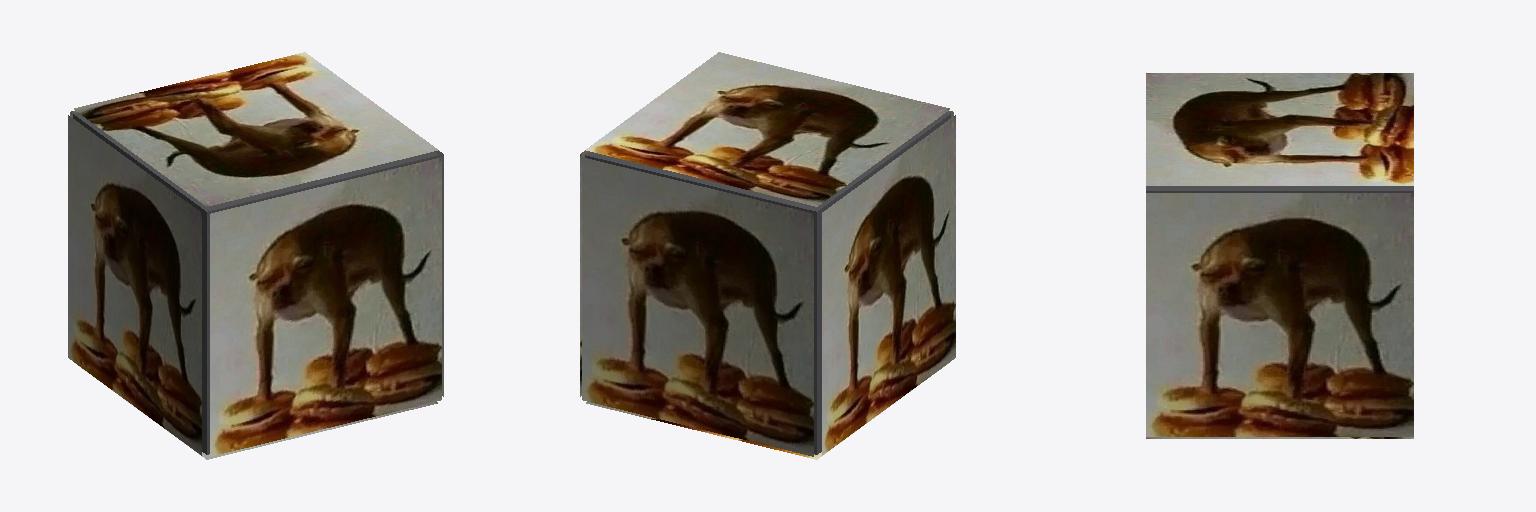
The picture shows the model from 3 angles: view 1: azimuth 30°, elevation 25°; view 2: azimuth 150°, elevation 25°; view 3: azimuth 270°, elevation 25°; orthographic projection.
Parts seen in each view (by area): view 1: Googie2, Googie5, Googie6, Googie1, Googie7; view 2: Googie4, Googie5, Googie6, Googie1, Googie7; view 3: Googie3, Googie6, Googie1, Googie7.
Part boxes in pixels (left/top/right/bottom): Googie2: left=210, top=157, right=441, bottom=456; Googie5: left=68, top=115, right=201, bottom=455; Googie6: left=74, top=52, right=437, bottom=206; Googie1: left=73, top=112, right=438, bottom=454; Googie7: left=75, top=363, right=437, bottom=459; Googie4: left=582, top=157, right=813, bottom=456; Googie5: left=822, top=115, right=955, bottom=455; Googie6: left=586, top=52, right=949, bottom=206; Googie1: left=585, top=112, right=950, bottom=454; Googie7: left=586, top=363, right=948, bottom=459; Googie3: left=1146, top=193, right=1413, bottom=436; Googie6: left=1146, top=73, right=1413, bottom=185; Googie1: left=1146, top=186, right=1413, bottom=192; Googie7: left=1146, top=437, right=1413, bottom=438.
Size of the model in its own units: 1.04 by 1.04 by 1.04.
2 materials, 1 textured.